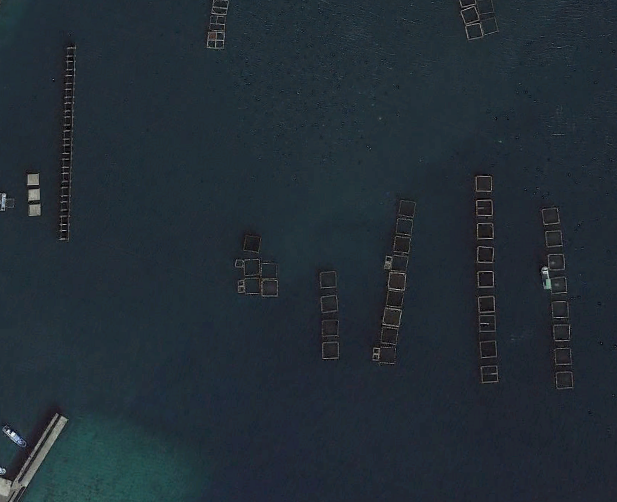ship: (1, 425, 29, 451), (538, 262, 554, 291)
square: (539, 244, 570, 274), (471, 264, 502, 293), (471, 309, 500, 338), (380, 265, 412, 291), (472, 238, 500, 267), (316, 312, 345, 340), (375, 304, 408, 328), (539, 200, 567, 228), (549, 316, 576, 345), (545, 271, 573, 298), (383, 285, 411, 312), (256, 275, 285, 301), (479, 13, 509, 38), (472, 169, 499, 196), (394, 213, 422, 239), (317, 339, 345, 365), (319, 288, 344, 317), (539, 224, 567, 249), (316, 265, 342, 291), (472, 288, 497, 314), (237, 231, 263, 256), (387, 233, 415, 256), (546, 296, 571, 321), (479, 360, 504, 385), (378, 321, 403, 346), (551, 341, 575, 367), (474, 194, 497, 221), (397, 195, 419, 223), (384, 252, 412, 274), (374, 342, 402, 364), (475, 334, 500, 358), (239, 254, 264, 278), (240, 271, 264, 296), (262, 256, 285, 281), (555, 369, 578, 391), (21, 198, 43, 220), (464, 19, 486, 41), (477, 220, 497, 244), (458, 3, 482, 23), (24, 185, 43, 203), (26, 172, 42, 189)
